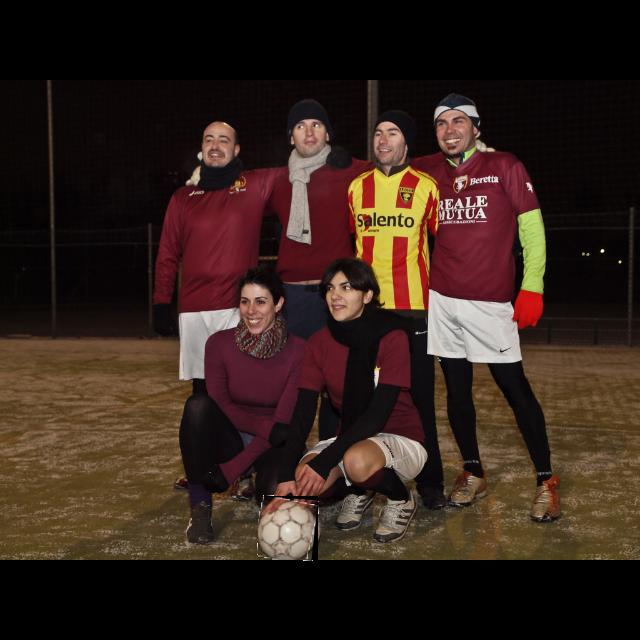Football: (258, 496, 318, 560)
